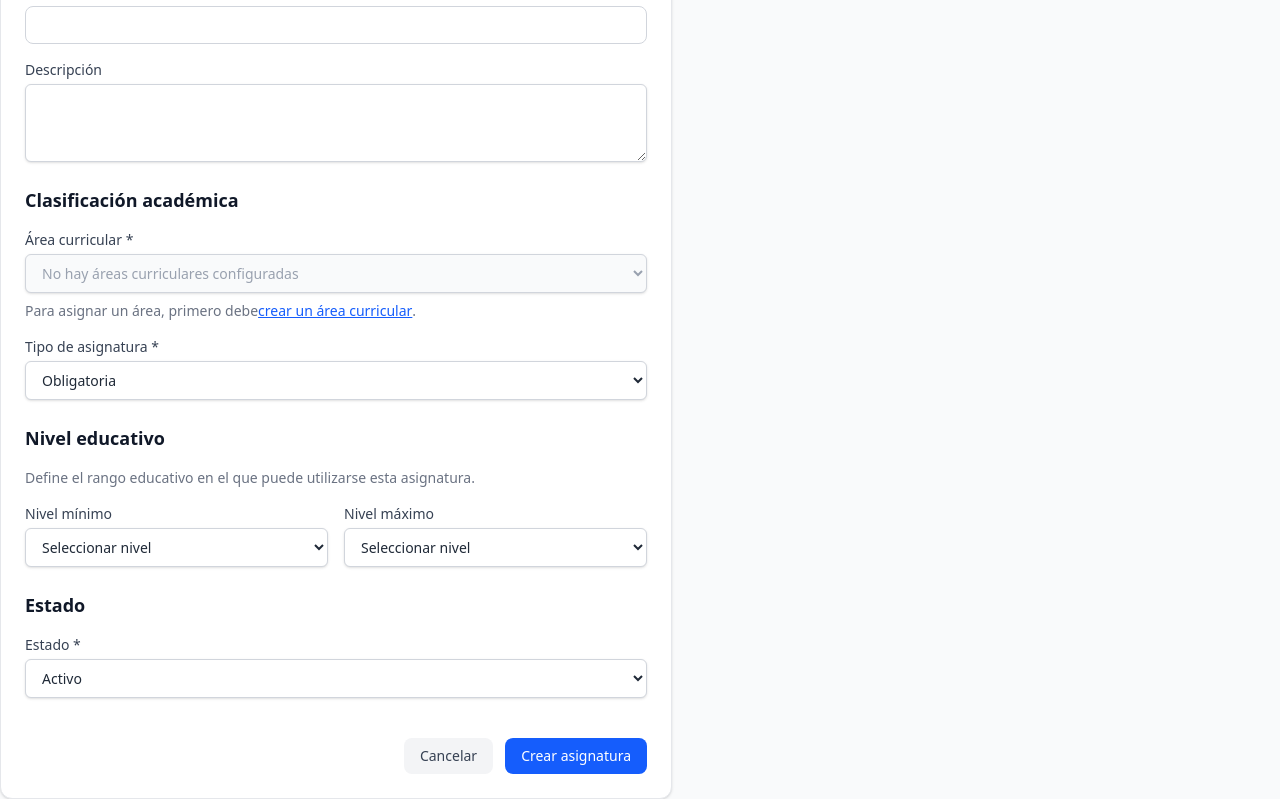
Test case: SubjectFormPage › shows validation errors on empty submit
(page scrolled)
Click the button "Crear asignatura": (576,756) [505,738,647,774]
(page scrolled)
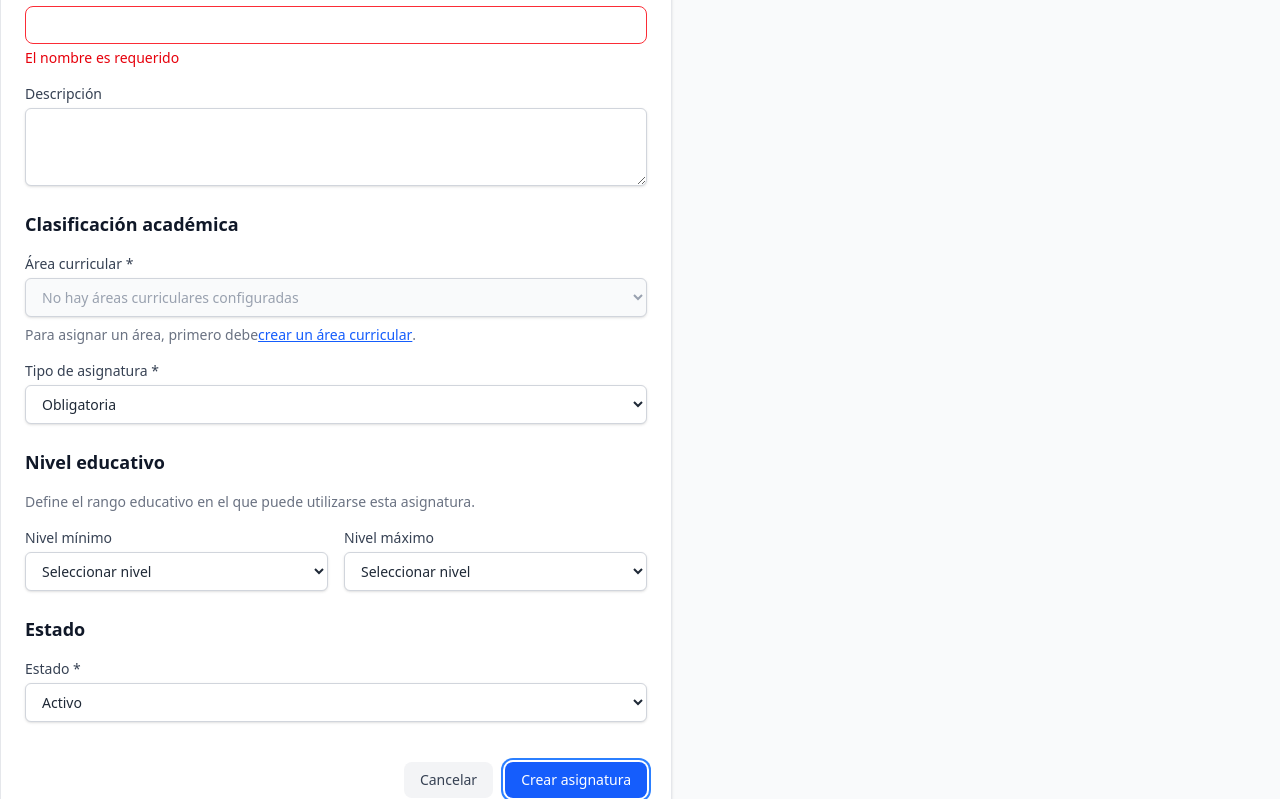
Result: the text "El nombre es requerido" is shown at [25,48,179,67]
